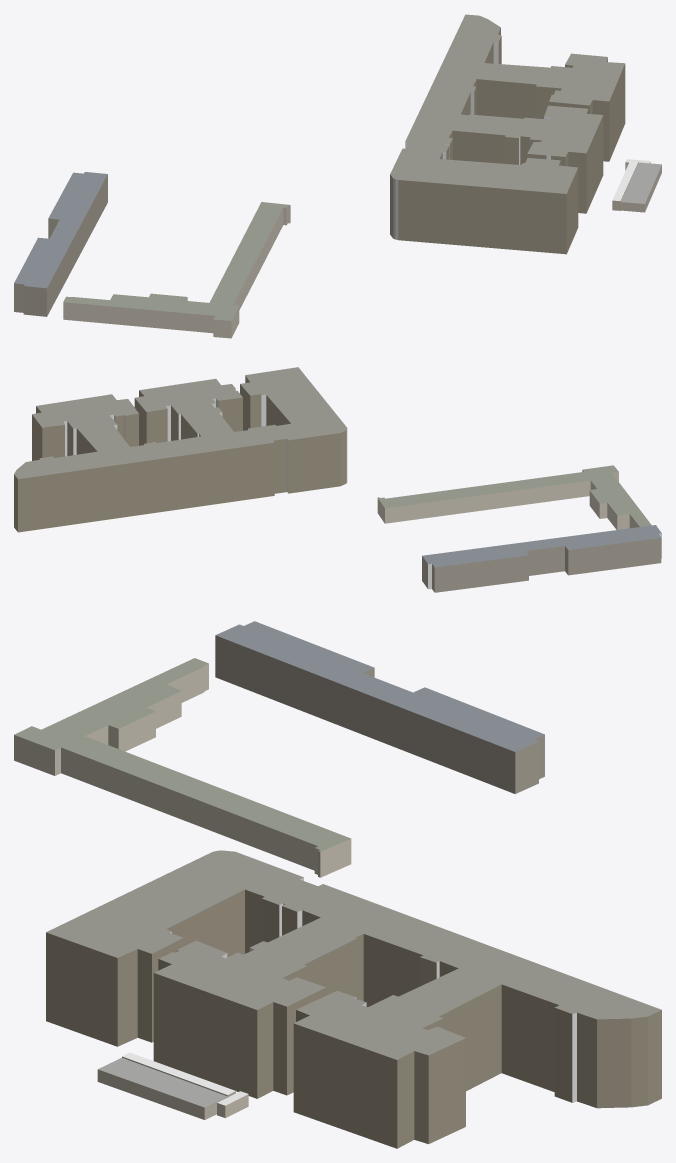
3 views of the same model, one above another, from view 1: azimuth 30°, elevation 25°; view 2: azimuth 150°, elevation 25°; view 3: azimuth 270°, elevation 25° (orthographic). The views are drawn at different scales.
Parts seen in each view (by area): view 1: tuile; view 2: tuile; view 3: tuile.
Boxes of the visible parts, <box> form: tuile: <box>14,14,661,338</box>; tuile: <box>14,367,661,592</box>; tuile: <box>14,621,661,1148</box>.
Size of the model in its own units: 288 by 25.16 by 166.
